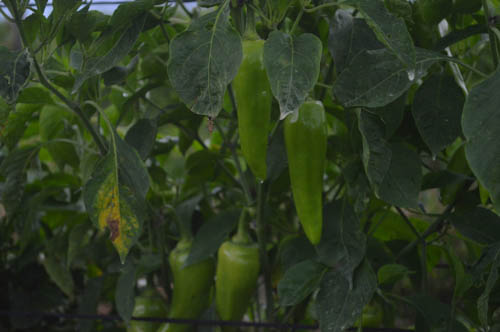ChiliPepper: (233, 41, 271, 181), (286, 105, 322, 243), (215, 244, 258, 321), (169, 246, 210, 326)
